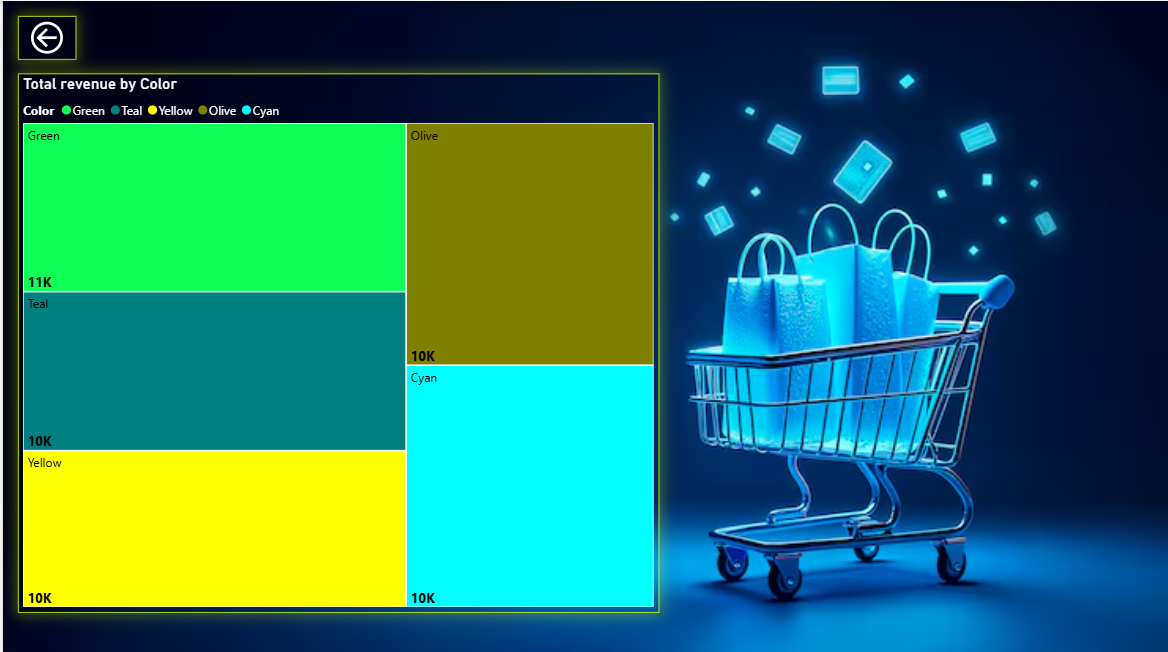

This screenshot's page, from the dashboard's own definition file:
{"tool":"powerbi","page":{"name":"Q19 – Top 5 colors by revenue","canvas":[1280,720],"ordinal":19},"visuals":[{"type":"columnChart","fields":{"Category":["customer.Color"],"Y":["measure.Total revenue"]},"box":[96,32,1088,640],"z":0}]}

Visuals, with their boxes in screenshot pixels (x1, y1, x2, y2), scaled from the page's 1280x720 canvas onto the 1168x652 screenshot:
columnChart - customer.Color x measure.Total revenue: box(88, 29, 1080, 609)
